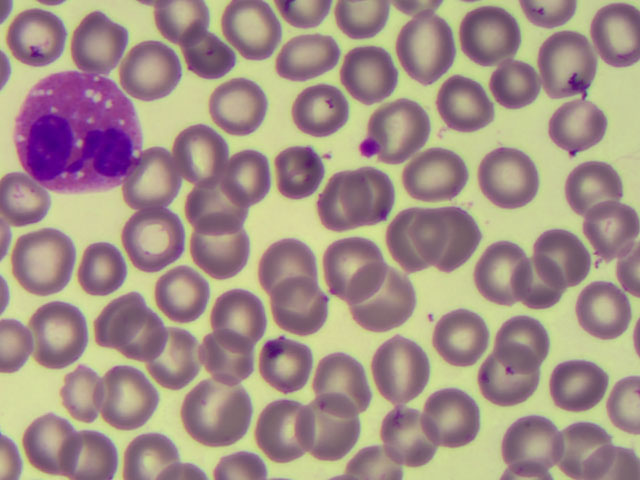Platelets: (358, 135, 382, 160)
RBC: (63, 417, 125, 480), (14, 417, 76, 480), (123, 417, 185, 480), (558, 417, 620, 480), (503, 417, 565, 480), (67, 13, 129, 75), (6, 11, 68, 73), (118, 41, 180, 103), (180, 25, 242, 87), (221, 4, 283, 66), (271, 30, 333, 92), (325, 41, 387, 103), (401, 14, 463, 76), (458, 4, 520, 66), (484, 55, 546, 117), (533, 29, 595, 91), (578, 4, 640, 66), (556, 95, 618, 157), (429, 77, 491, 139), (378, 100, 440, 162), (289, 82, 351, 144), (213, 75, 275, 137), (174, 121, 236, 183), (116, 149, 178, 211), (122, 205, 184, 267), (75, 243, 137, 305), (11, 229, 73, 291), (7, 166, 69, 228), (19, 301, 81, 363), (56, 362, 118, 424), (103, 368, 165, 430), (177, 384, 239, 446), (148, 329, 210, 391), (126, 307, 188, 369), (86, 288, 148, 350), (148, 263, 210, 325), (187, 223, 249, 285), (185, 186, 247, 248), (210, 143, 272, 205), (260, 140, 322, 202), (313, 169, 375, 231), (338, 164, 400, 226), (410, 140, 472, 202), (484, 147, 546, 209), (425, 205, 487, 267), (387, 208, 449, 270), (354, 271, 416, 333), (322, 240, 384, 302), (276, 282, 338, 344), (260, 240, 322, 302), (212, 286, 274, 348), (193, 334, 255, 396), (252, 334, 314, 396), (253, 404, 315, 466), (299, 396, 361, 458), (317, 348, 379, 410), (370, 334, 432, 396), (373, 406, 435, 468), (413, 382, 475, 444), (420, 302, 482, 364), (466, 350, 528, 412), (492, 312, 554, 374), (539, 351, 601, 413), (509, 258, 571, 320), (476, 244, 538, 306), (533, 225, 595, 287), (578, 283, 640, 345), (578, 204, 640, 266), (565, 157, 627, 219), (157, 1, 219, 62), (603, 366, 640, 445)
WBC: (19, 71, 141, 194)
